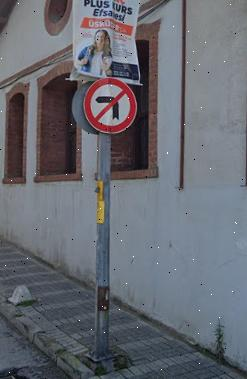leftturnsareforbidden: (85, 76, 135, 133)
